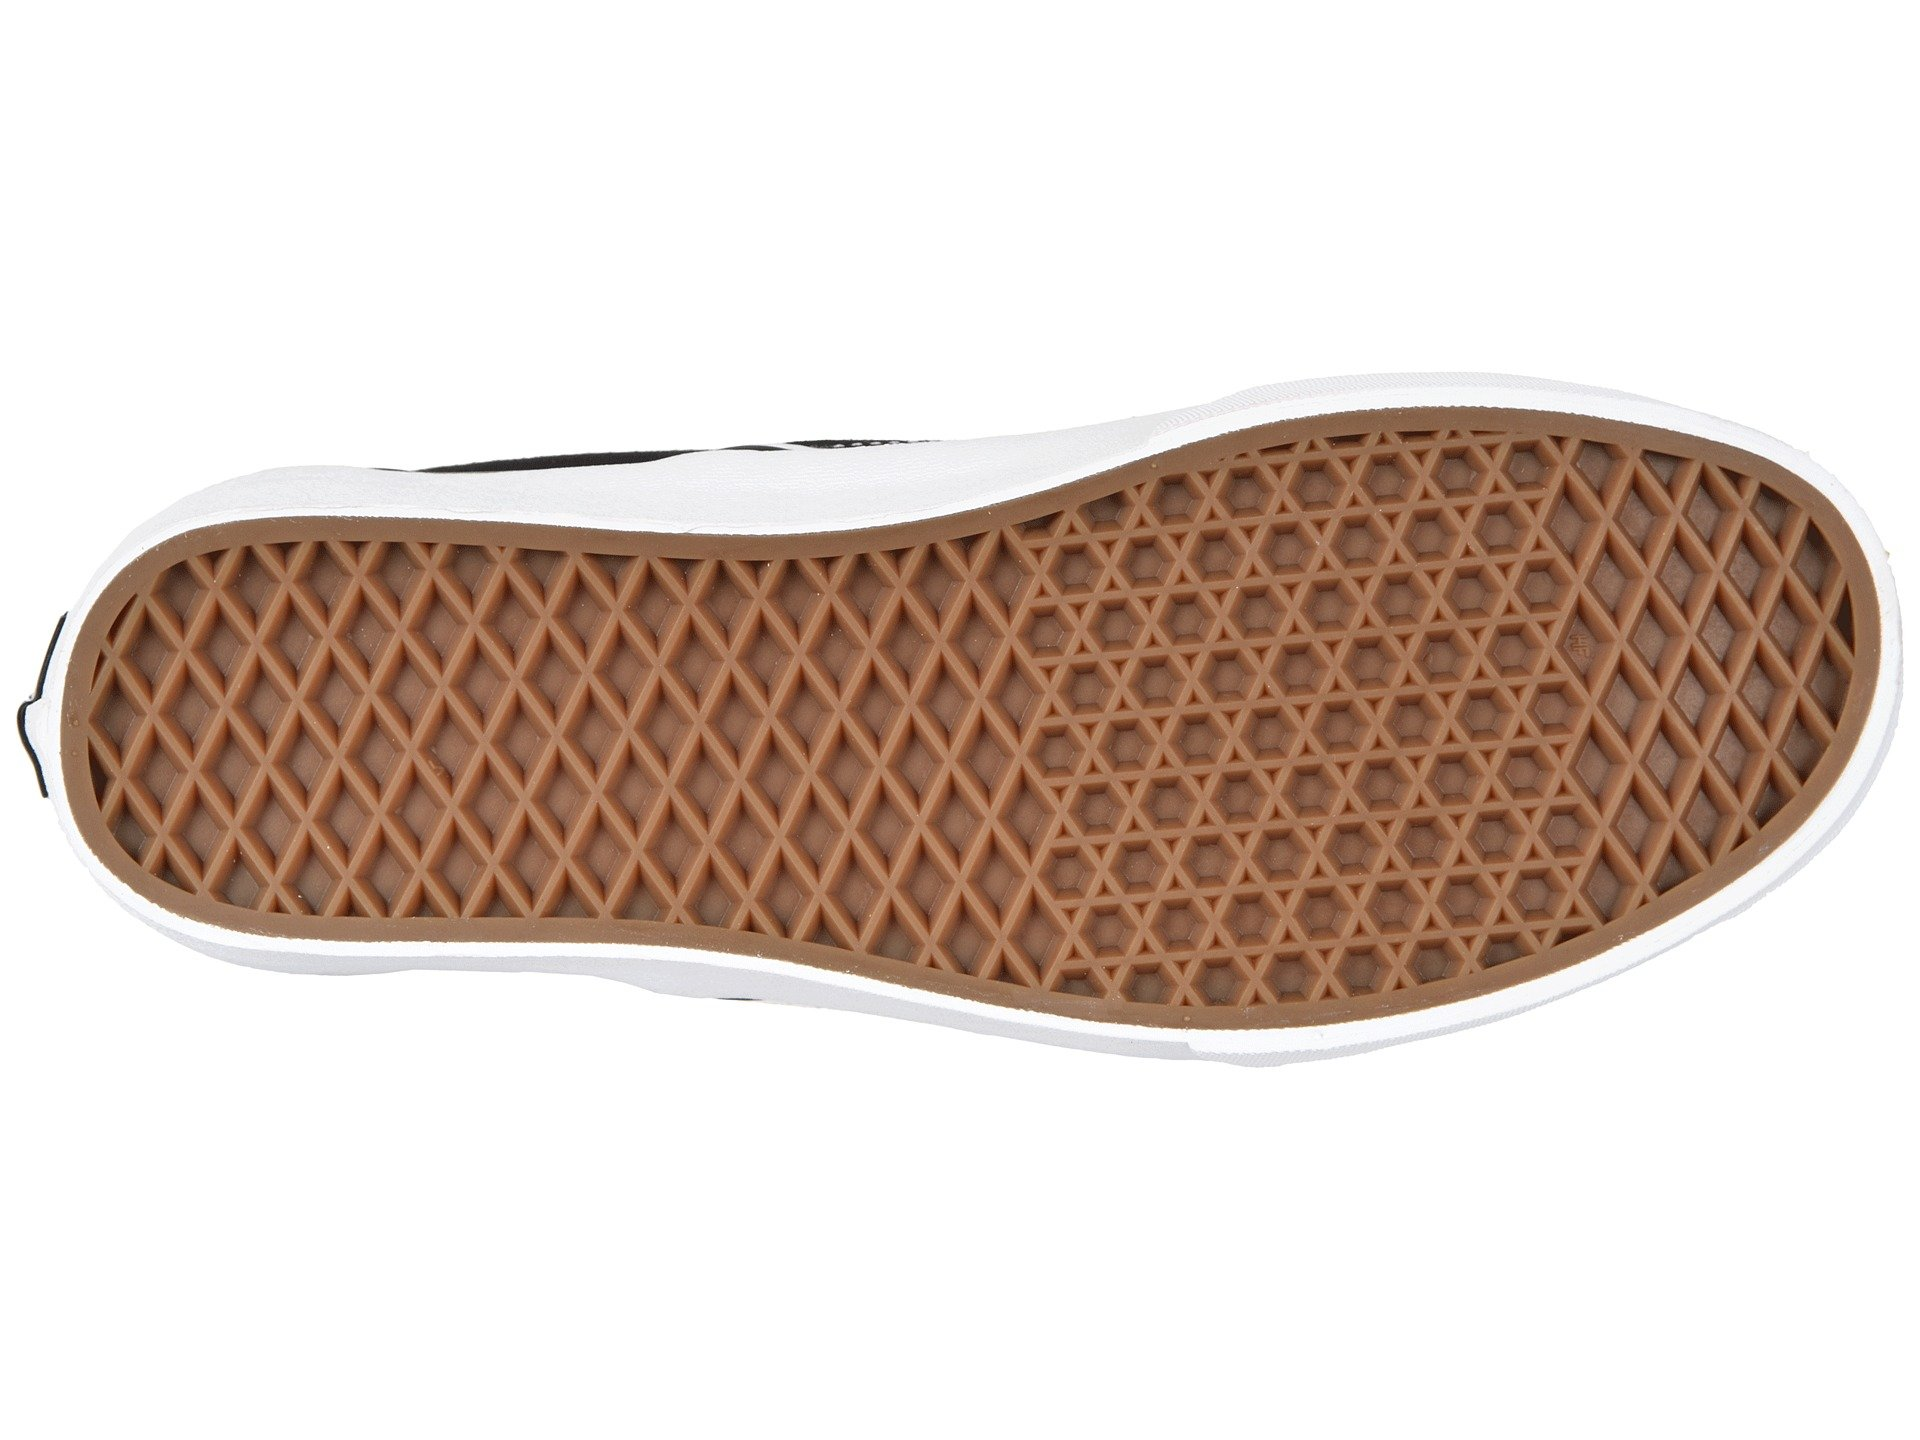polygon: (1219, 97, 1494, 362), (1253, 371, 1503, 597), (1005, 153, 1214, 383), (1030, 396, 1243, 607)
quad: (760, 188, 980, 419), (295, 194, 522, 414), (1538, 101, 1736, 324), (537, 189, 748, 386), (88, 245, 289, 443), (821, 430, 999, 616), (537, 396, 697, 566), (1586, 337, 1749, 502)
triangle: (1219, 97, 1494, 362), (1253, 371, 1503, 597), (1005, 153, 1214, 383), (1030, 396, 1243, 607)
